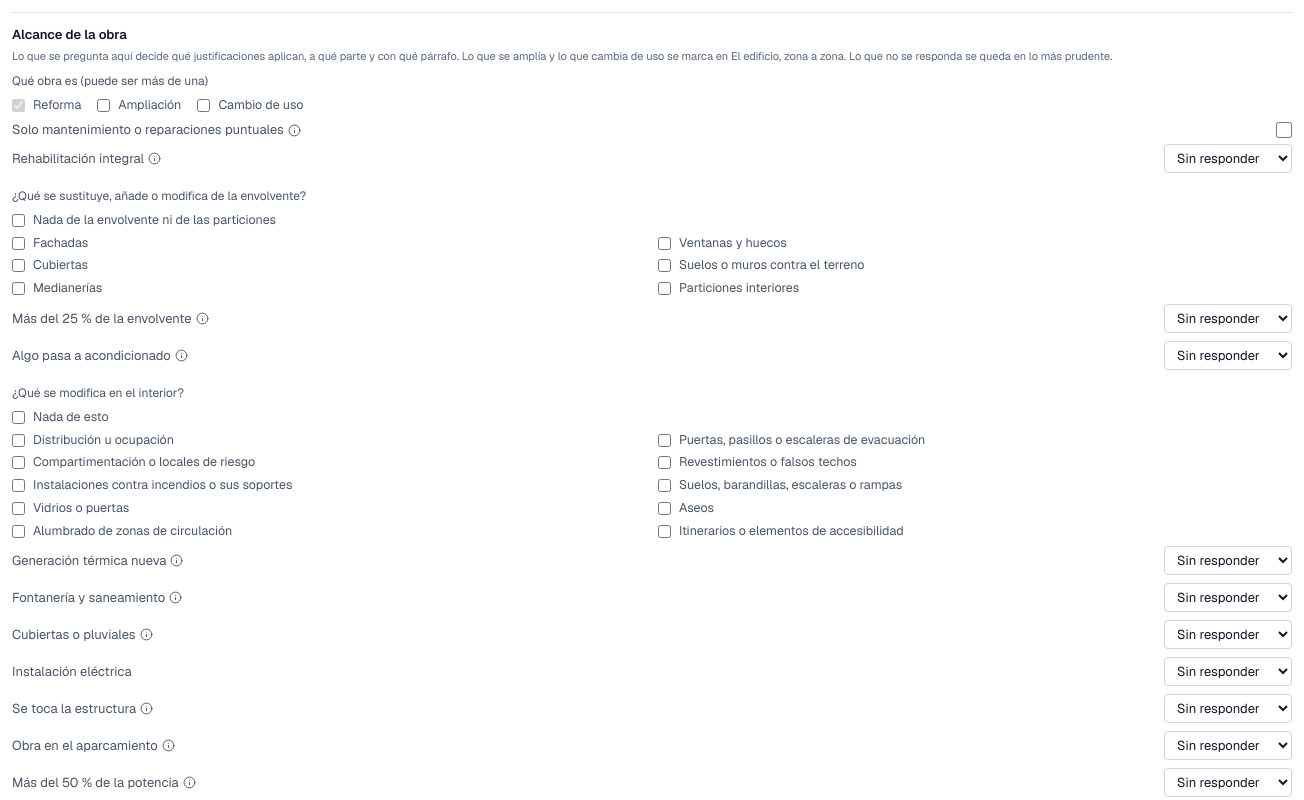
Scenario: AsistenteAlcance › solo mantenimiento esconde las preguntas y no aplica nada
Click the checkbox labelled "Solo mantenimiento o reparaciones puntuales" at point(1284, 130), box top-left (1276, 122), bottom-right (1292, 138)
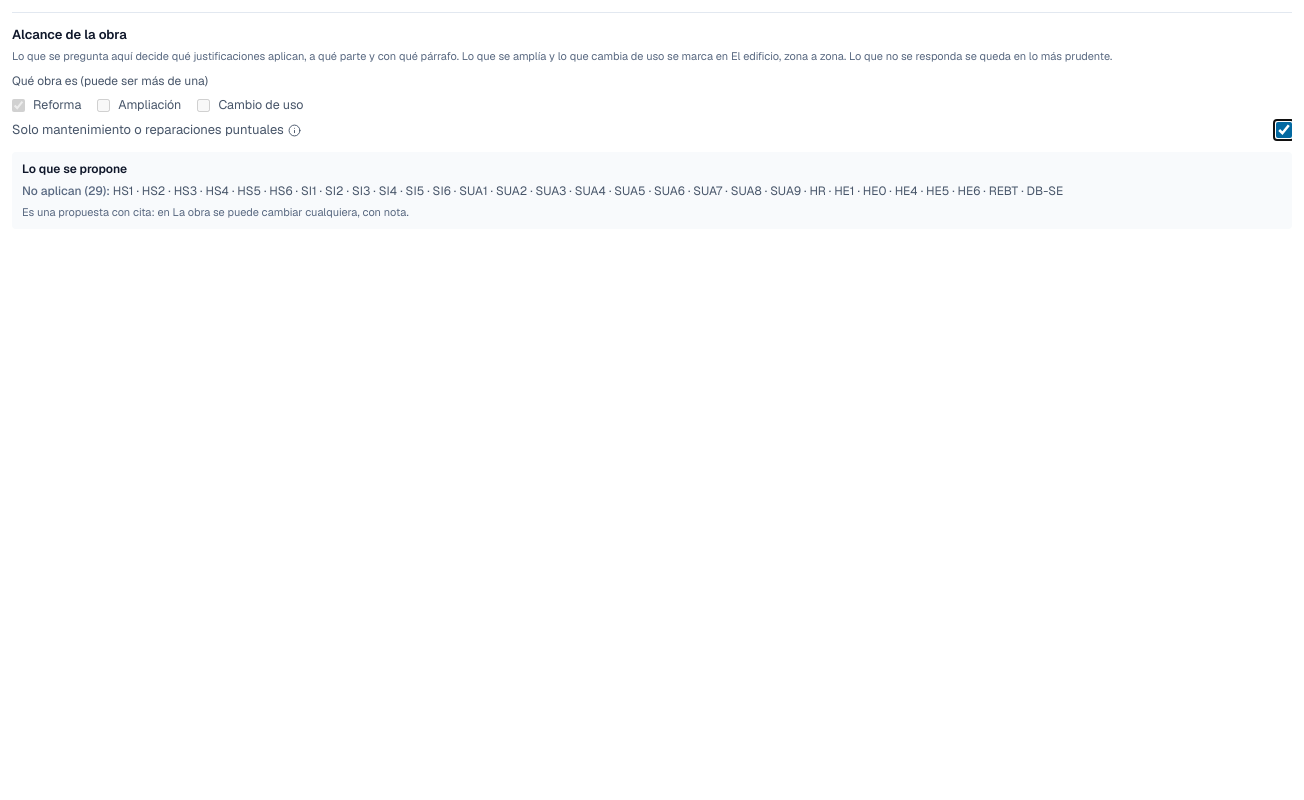
Now the label "Rehabilitación integral" is gone
Now the text "No aplican (29):" is shown, box top-left (22, 183), bottom-right (113, 199)
